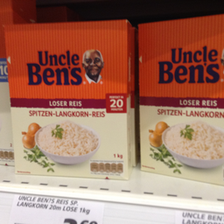rice: (3, 20, 132, 180), (138, 13, 224, 187)
